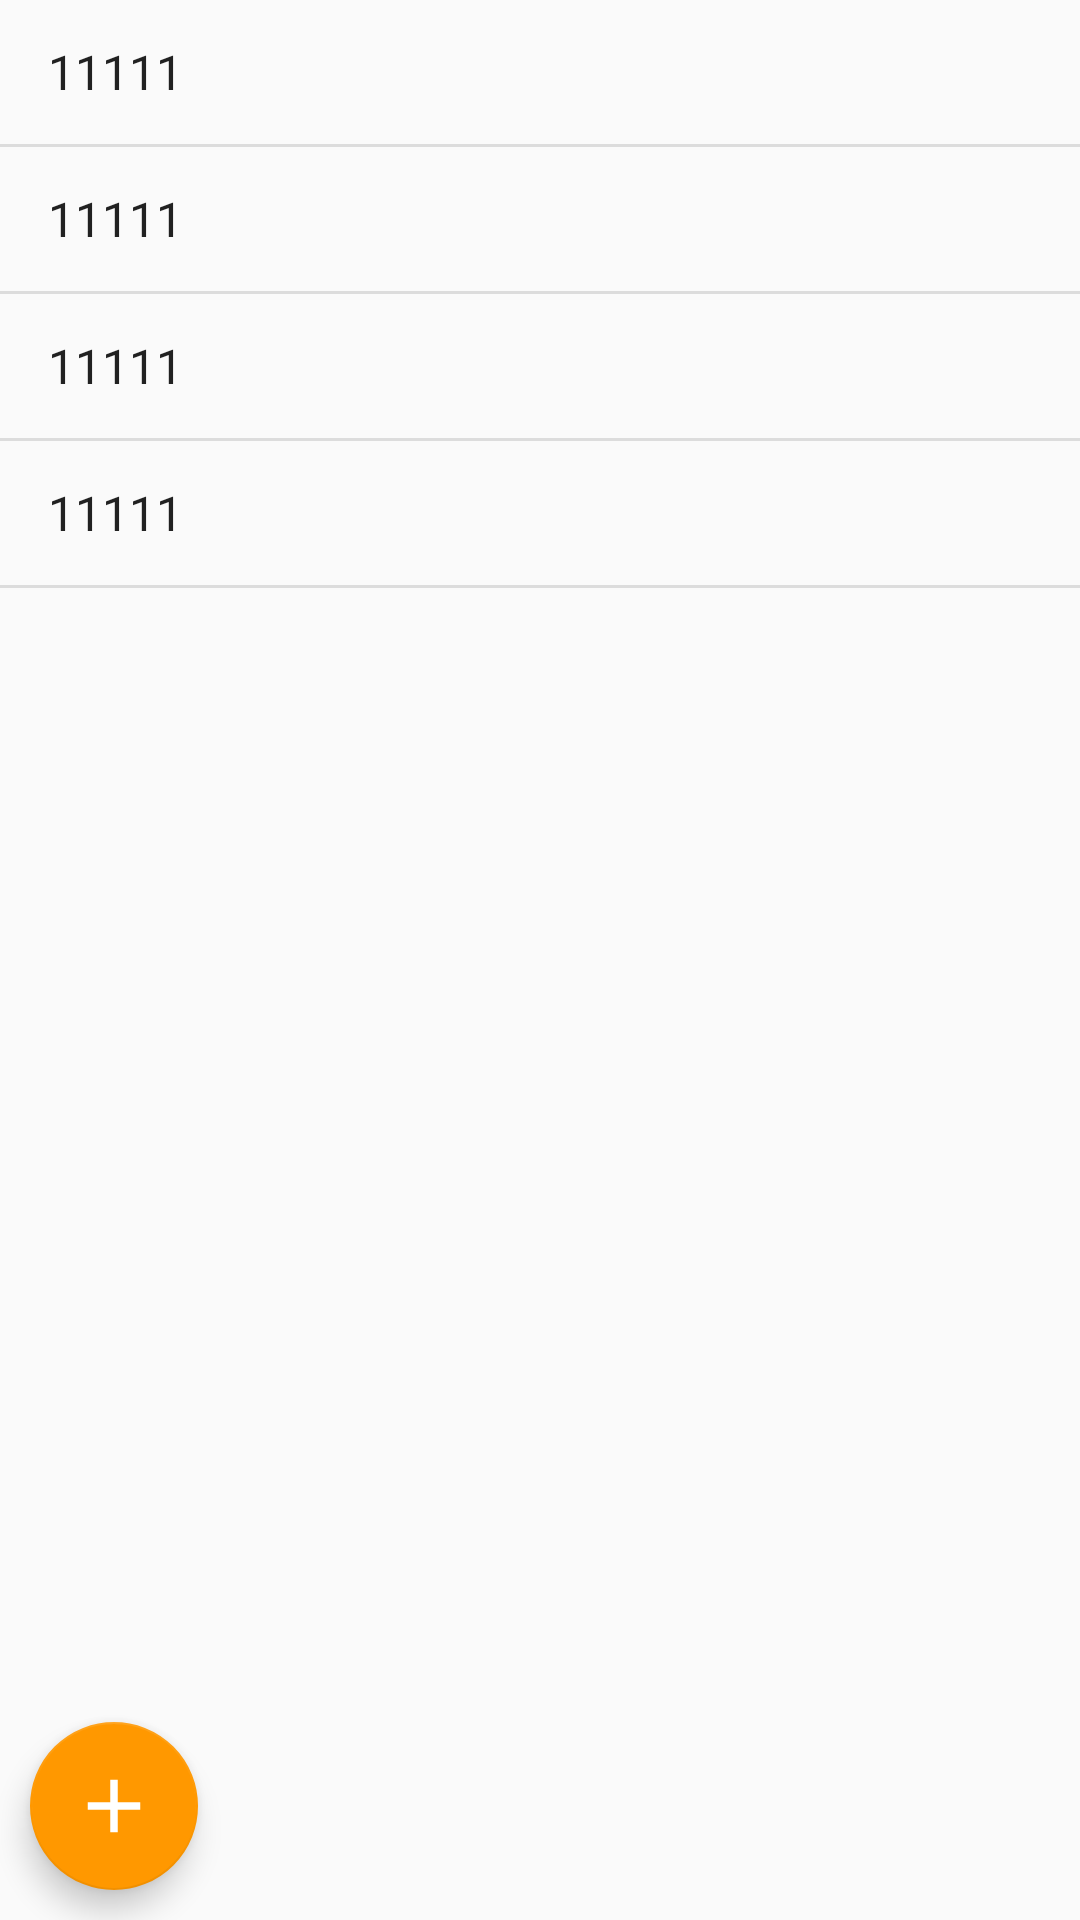

Where to tap for icons on this 1080px x 1920px app screen, as (x,y):
floataction: (114,1806)
